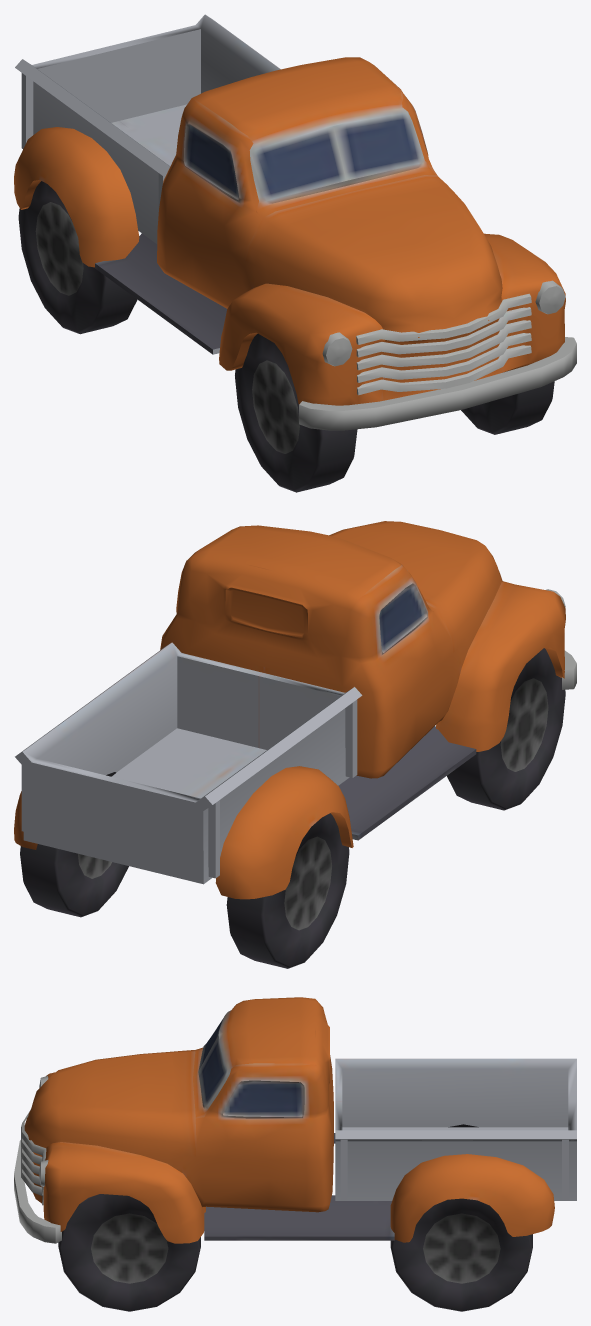
Rendered from car_with_wheel.glb.
3 renders of one model, top to bottom at view 1: azimuth 30°, elevation 25°; view 2: azimuth 150°, elevation 25°; view 3: azimuth 270°, elevation 25°, orthographic. The views are drawn at different scales.
Visible parts, largest first — view 1: Combined_A68326EB; view 2: Combined_A68326EB; view 3: Combined_A68326EB.
Boxes of the visible parts, <box> form: Combined_A68326EB: <box>14,14,576,492</box>; Combined_A68326EB: <box>14,521,576,968</box>; Combined_A68326EB: <box>14,997,576,1311</box>.
Bounding box in the file's own units: 1.76 × 1.82 × 3.86.
Materials: 2 (2 with a texture image).
